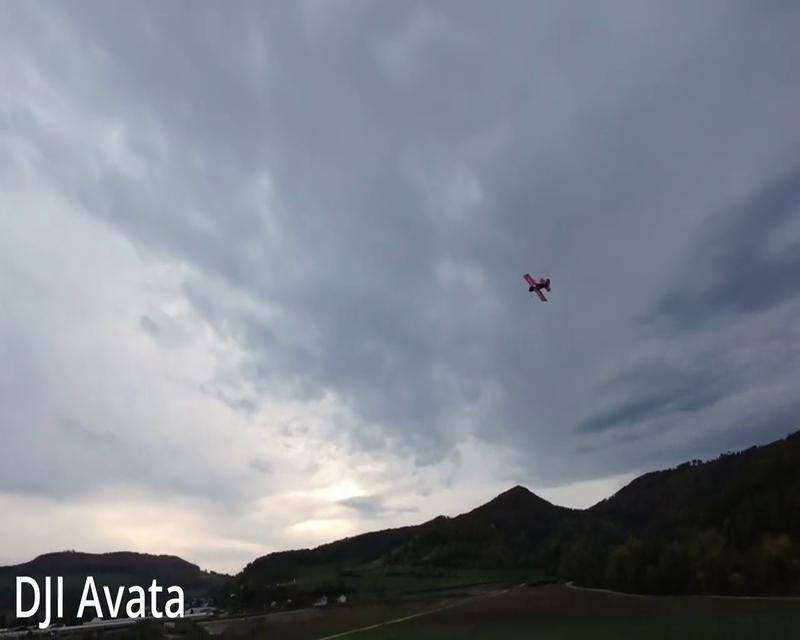UAV: (522, 272, 551, 302)
